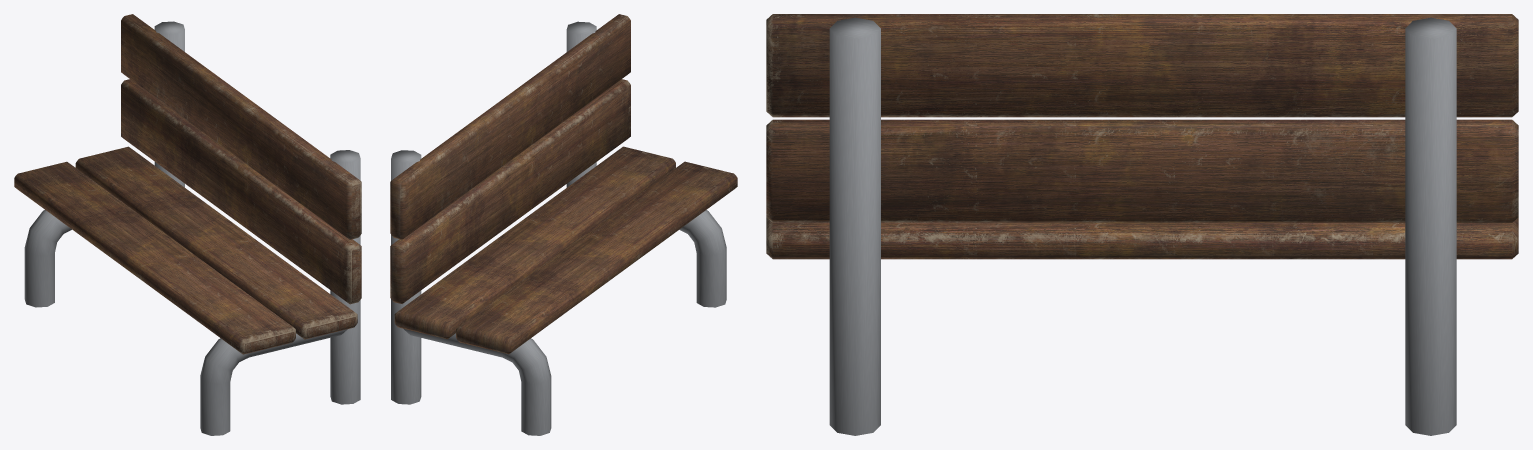
Rendered from bench.glb.
3 renders of one model, left to right at view 1: azimuth 30°, elevation 25°; view 2: azimuth 150°, elevation 25°; view 3: azimuth 270°, elevation 25°, orthographic. The views are drawn at different scales.
Visible parts, largest first — view 1: bench; view 2: bench; view 3: bench.
Boxes of the visible parts, x1=… form: bench: x1=14, y1=14, x2=361, y2=435; bench: x1=390, y1=14, x2=737, y2=435; bench: x1=766, y1=14, x2=1518, y2=435.
Size of the model in its own units: 0.5047 by 0.7422 by 1.28.
1 material, 1 textured.
